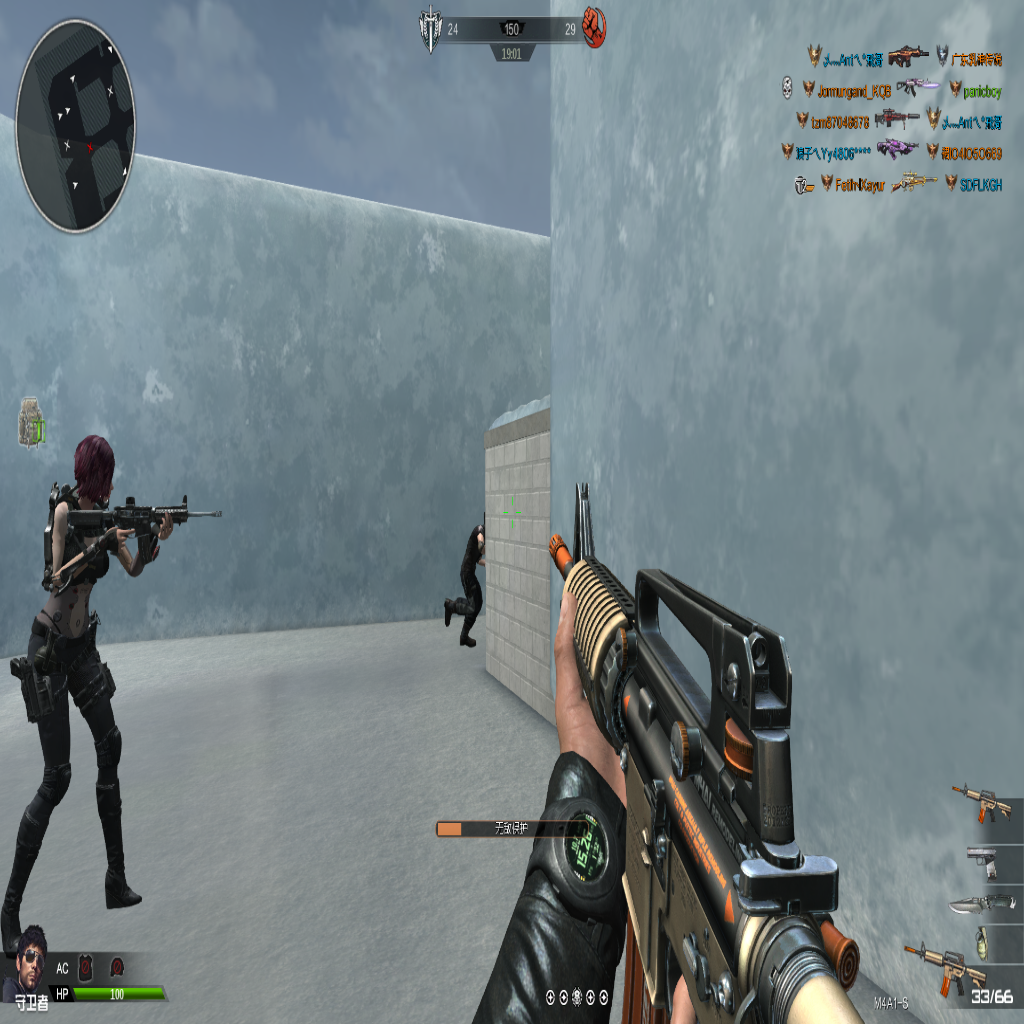ct: (445, 523, 486, 647)
